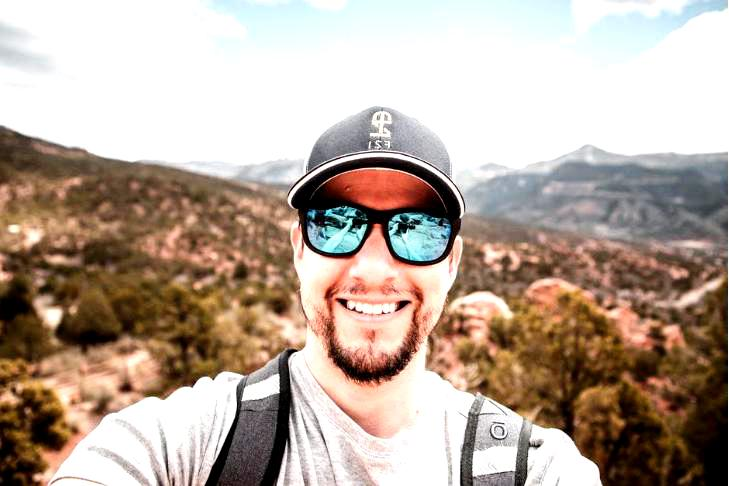face: (299, 170, 449, 377)
